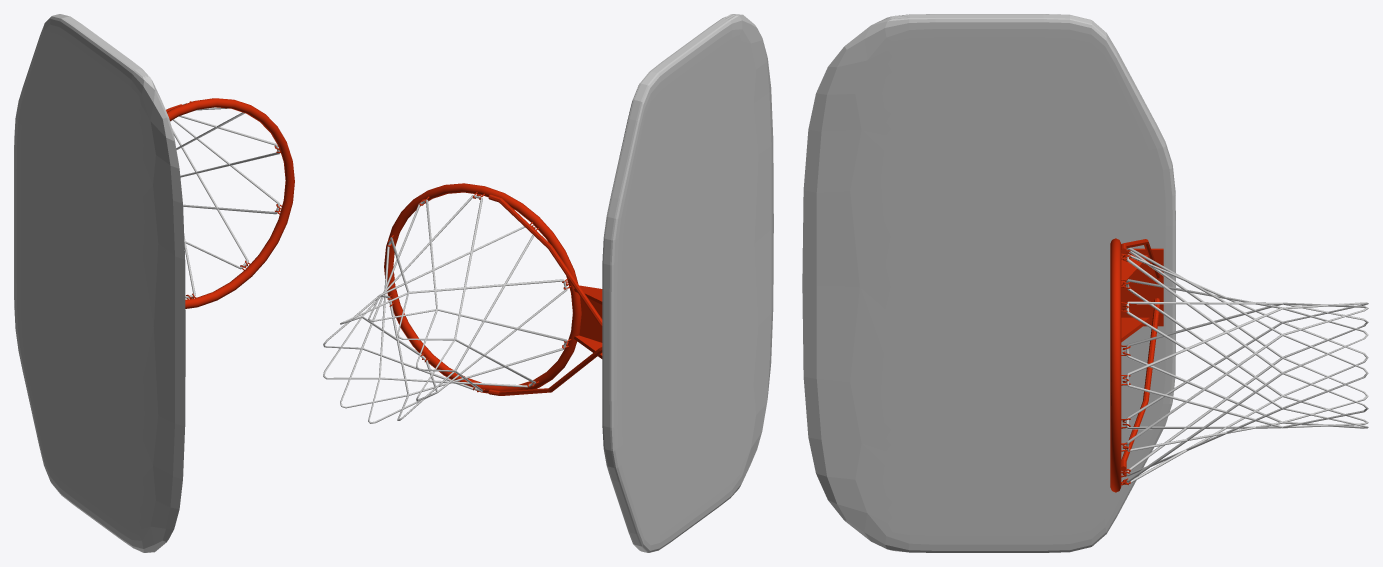
The model's file is basketball_net_and_board.obj.
The picture shows the model from 3 angles, left to right: view 1: azimuth 30°, elevation 25°; view 2: azimuth 150°, elevation 25°; view 3: azimuth 270°, elevation 25°; orthographic projection. The views are drawn at different scales.
Parts seen in each view (by area): view 1: Cube, BezierCircle_Mesh, Circle.001; view 2: Cube, Circle.001, BezierCircle_Mesh, Cube.001; view 3: Cube, Circle.001, Cube.001, BezierCircle_Mesh.
Boxes of the visible parts, x1=… form: Cube: x1=14, y1=14, x2=185, y2=552; BezierCircle_Mesh: x1=167, y1=98, x2=294, y2=308; Circle.001: x1=170, y1=103, x2=280, y2=298; Cube: x1=602, y1=14, x2=773, y2=552; Circle.001: x1=323, y1=195, x2=567, y2=423; BezierCircle_Mesh: x1=384, y1=183, x2=581, y2=393; Cube.001: x1=488, y1=194, x2=602, y2=395; Cube: x1=802, y1=14, x2=1175, y2=552; Circle.001: x1=1126, y1=247, x2=1368, y2=483; Cube.001: x1=1121, y1=239, x2=1163, y2=470; BezierCircle_Mesh: x1=1110, y1=238, x2=1121, y2=492.
Size of the model in its own units: 60.86 by 109 by 105.
